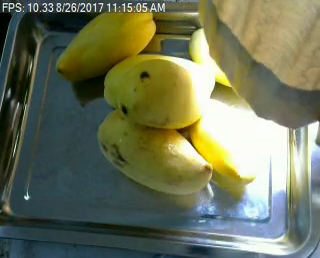Mango: (96, 108, 211, 194), (57, 6, 156, 83), (102, 53, 216, 108), (116, 59, 206, 127), (186, 98, 255, 183), (189, 27, 255, 89)
